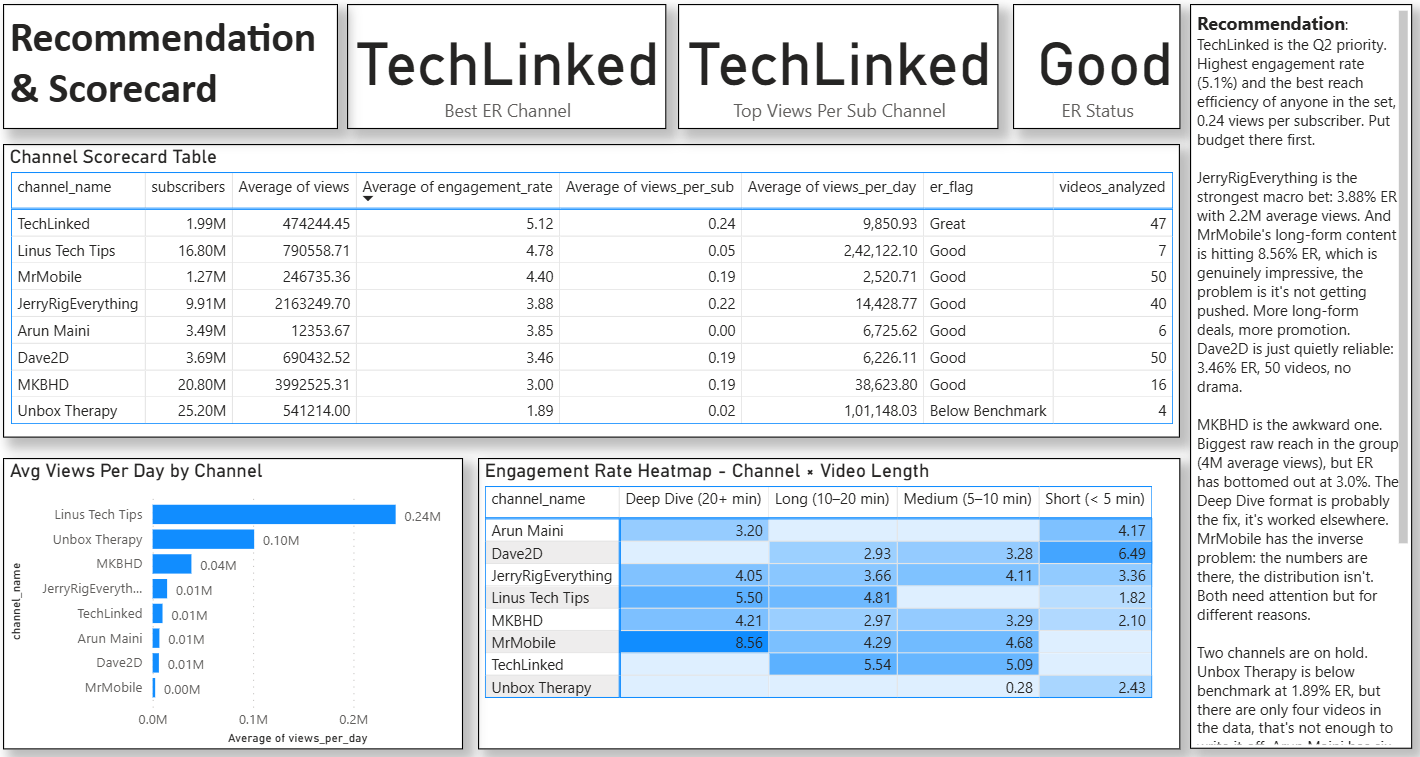

This screenshot's page, from the dashboard's own definition file:
{"tool":"powerbi","page":{"name":"Recommendations & Scorecard","canvas":[1280,720],"ordinal":3},"visuals":[{"type":"tableEx","title":"Channel Scorecard Table","fields":{"Values":["videos.channel_name","videos.subscribers","Avg(videos.views)","Avg(videos.engagement_rate)","Avg(videos.views_per_sub)","Avg(videos.views_per_day)","channel_summary.er_flag","channel_summary.videos_analyzed"]},"box":[9.9,133.4,1054,263.3],"z":0},{"type":"card","fields":{"Values":["channel_summary.Best ER Channel"]},"box":[317.9,8.1,285.7,111.9],"z":1000},{"type":"card","title":"Best Reach Efficiency (Views/Sub)","fields":{"Values":["channel_summary.Top Views Per Sub Channel"]},"box":[614.3,8.1,287.5,111.9],"z":2000},{"type":"card","fields":{"Values":["videos.ER Status"]},"box":[914.3,8.1,149.6,111.9],"z":3000},{"type":"pivotTable","title":"Engagement Rate Heatmap - Channel × Video Length","fields":{"Rows":["videos.channel_name"],"Columns":["videos.duration_bucket"],"Values":["Avg(videos.engagement_rate)"]},"box":[435.2,414.6,628.7,260.6],"z":4000},{"type":"clusteredBarChart","title":"Avg Views Per Day by Channel","fields":{"Category":["videos.channel_name"],"Y":["Avg(videos.views_per_day)"]},"box":[9.9,414.6,411.9,260.6],"z":5000},{"type":"textbox","box":[1072.8,8.1,198.8,667.2],"z":6000},{"type":"textbox","box":[9.9,8.1,300,111.9],"z":7000}]}

Visuals, with their boxes on the page's 1280x720 design canvas (x1, y1, x2, y2). These are canvas units, not pixel positions in the 1420x757 screenshot, which may show the page scaled, cropped or inside an application window:
"Channel Scorecard Table" tableEx: x1=10, y1=133, x2=1064, y2=397
card - channel_summary.Best ER Channel: x1=318, y1=8, x2=604, y2=120
"Best Reach Efficiency (Views/Sub)" card: x1=614, y1=8, x2=902, y2=120
card - videos.ER Status: x1=914, y1=8, x2=1064, y2=120
"Engagement Rate Heatmap - Channel × Video Length" pivotTable: x1=435, y1=415, x2=1064, y2=675
"Avg Views Per Day by Channel" clusteredBarChart: x1=10, y1=415, x2=422, y2=675
textbox: x1=1073, y1=8, x2=1272, y2=675
textbox: x1=10, y1=8, x2=310, y2=120
